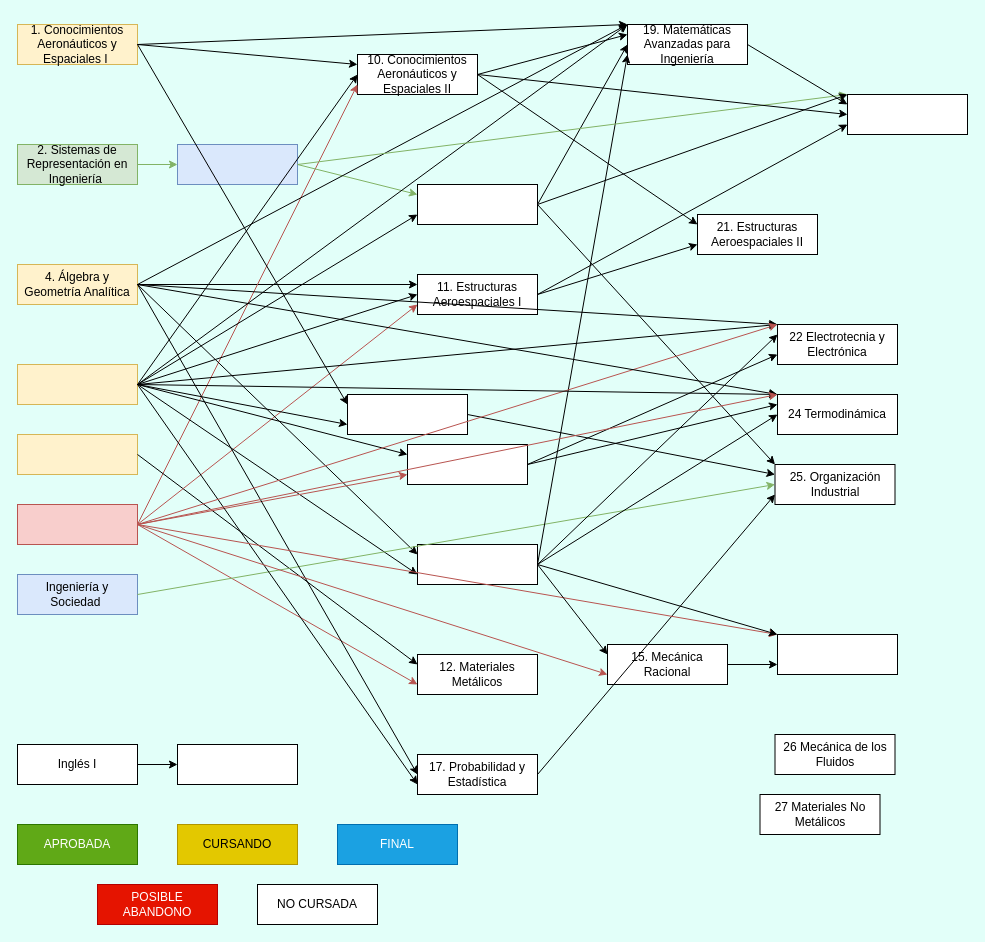
The diagram is 985 pixels wide and 942 high, and some of its shapes have lost their labels. Here are the shapes that lost their labels. From the top down, the box of each, then its label:
(846, 94, 968, 134): 20. Programación y Análisis Numérico
(176, 144, 298, 184): 3. Diseño y Representación Aeroespacia
(416, 184, 538, 224): 13. Computación
(16, 364, 138, 404): 5. Análisis Matemático I
(346, 394, 468, 434): 18. Economía
(16, 434, 138, 474): 7. Química General
(406, 444, 528, 484): 16. Física II
(16, 504, 138, 544): 6. Física I
(416, 544, 538, 584): 14. Análisis Matemático II
(776, 634, 898, 674): 23 Mecánica del Sólido
(176, 744, 298, 784): Inglés II
